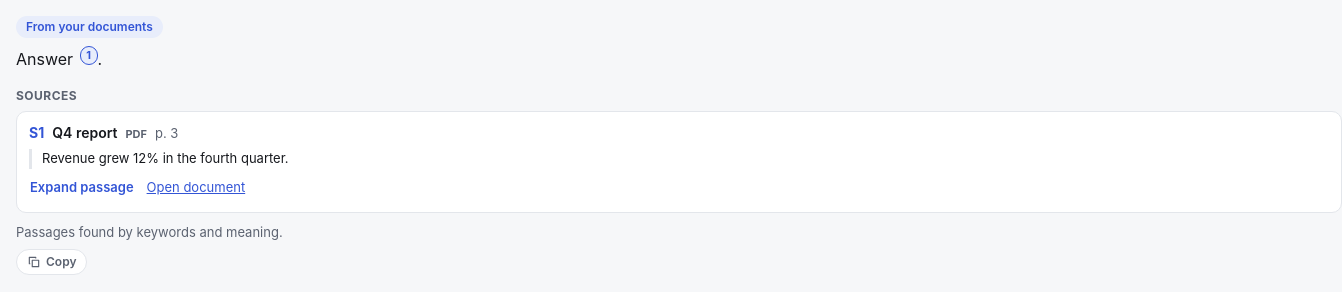
it: a reply answered from documents › expands a passage from the sources endpoint
What coordinates should you click on to do the following:
click the button "Expand passage"
I would click on:
 (82, 188)
Its box is [29,173,135,202].
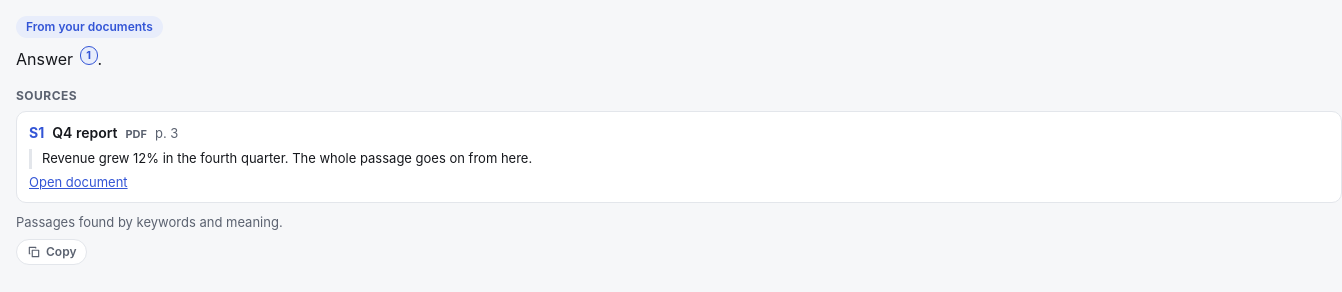
Now the text "The whole passage goes on from here." is shown, box [42,150,532,166]
Now the button "Expand passage" is gone
